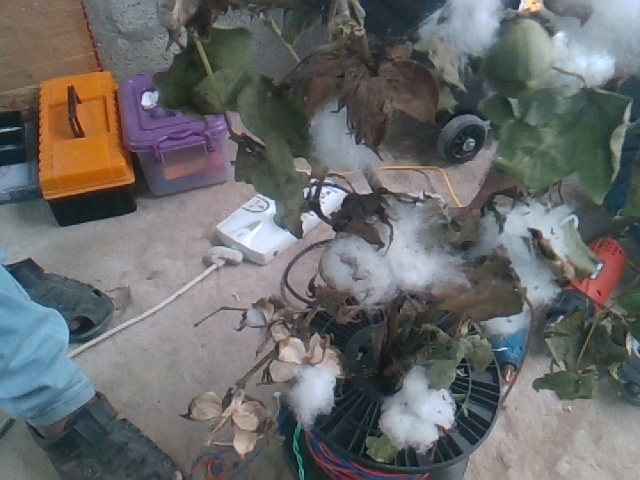cotton: (483, 213, 572, 296), (379, 205, 463, 288), (381, 368, 453, 445), (329, 229, 399, 300), (290, 368, 333, 420)
